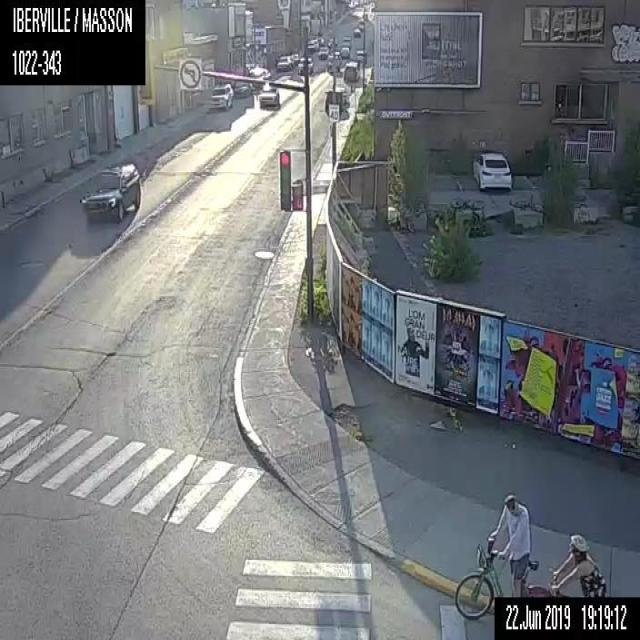cyclist: (452, 491, 549, 620), (548, 532, 610, 602)
vehicle: (78, 157, 142, 224), (471, 150, 512, 192), (206, 82, 234, 112), (324, 88, 343, 116), (258, 86, 280, 109), (248, 66, 271, 86), (233, 80, 250, 98), (343, 62, 358, 82), (275, 54, 292, 70), (297, 56, 312, 73), (354, 47, 366, 63), (317, 45, 328, 58), (339, 45, 349, 59), (341, 35, 351, 48), (307, 40, 315, 51), (290, 53, 298, 64), (352, 27, 359, 37), (311, 39, 318, 48)
